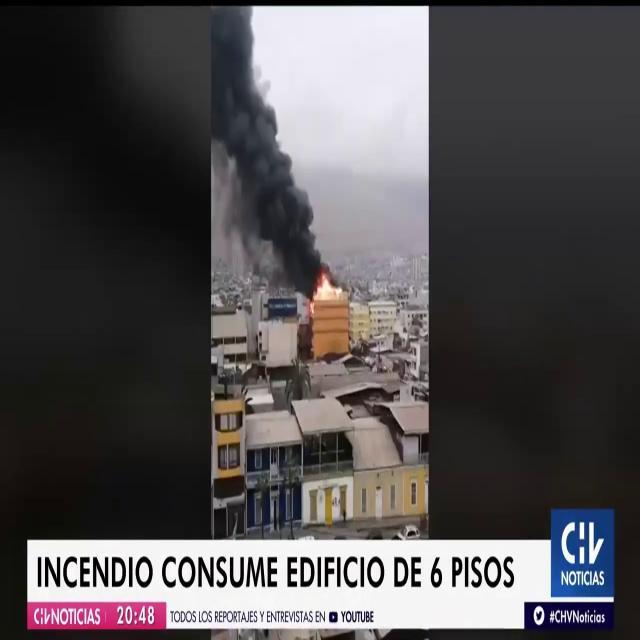Fire: (312, 268, 341, 304)
Smoke: (211, 5, 323, 298)
